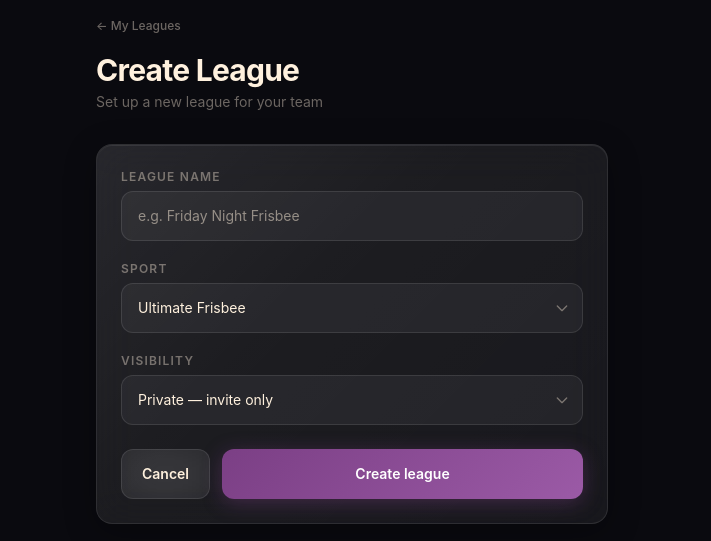
Test: CreateLeaguePage › navigates to /leagues after successful creation
Type "Friday Frisbee" into the field labelled "League Name". click: [352, 216]
box: [121,191,583,241]
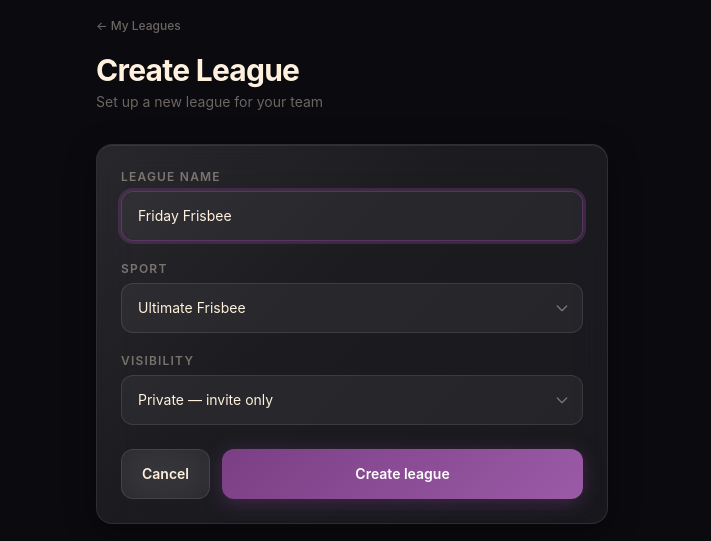
Click the button "Create league". click: [402, 474]
box: [222,449,583,499]
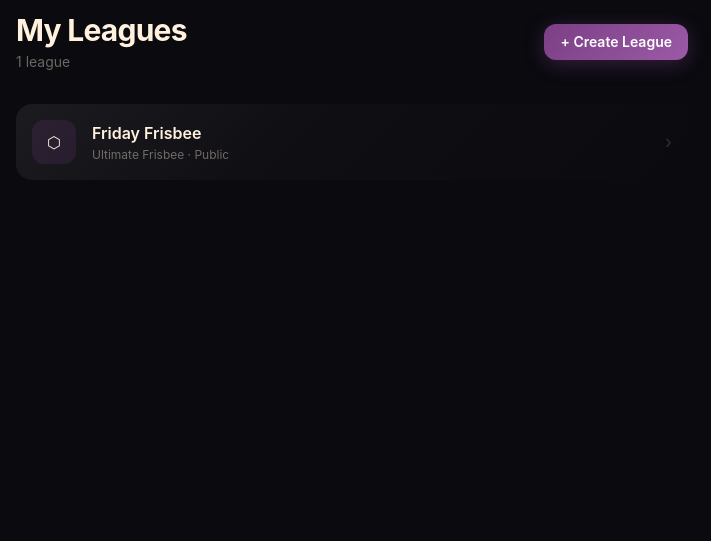
Check: the text "Friday Frisbee" is shown, box [92,123,201,143]
